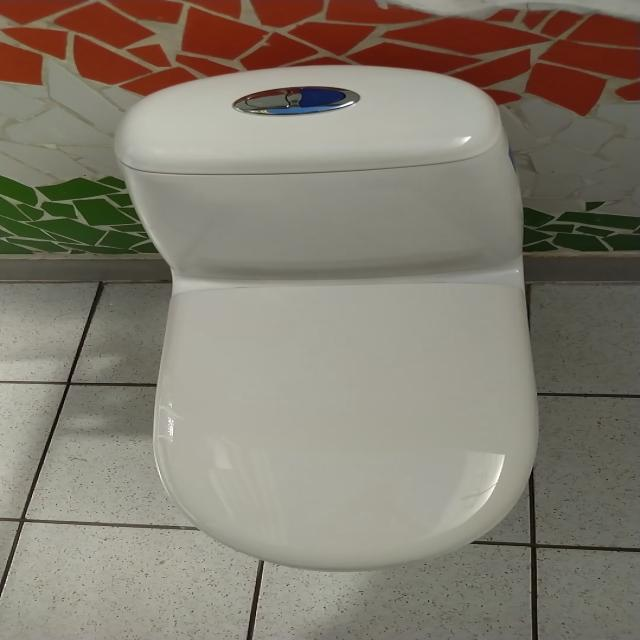toilet: (112, 64, 539, 572)
